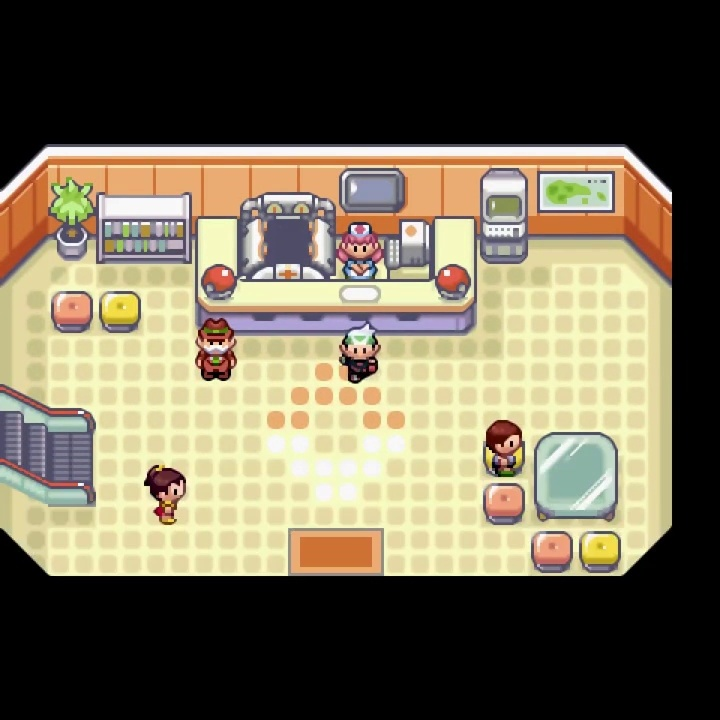exit: (286, 526, 387, 629)
npc: (190, 313, 239, 384), (140, 459, 189, 528), (335, 319, 384, 386), (333, 220, 384, 281), (484, 417, 526, 479)
